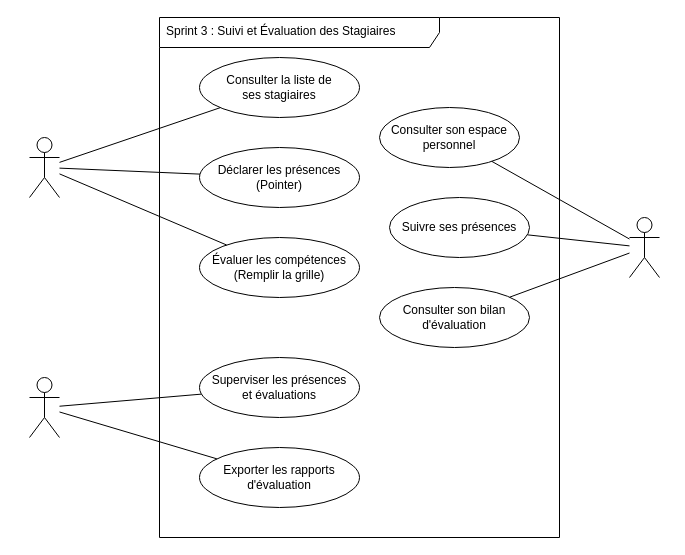
The diagram is 685 pixels wide and 555 high, and some of its shapes have lost their labels. The box of each missing label's shape, as (x1, y1, x2, y2) in pixels:
Admin RH: (28, 376, 60, 438)
Stagiaire: (628, 216, 660, 278)
Tuteur: (28, 136, 60, 198)
